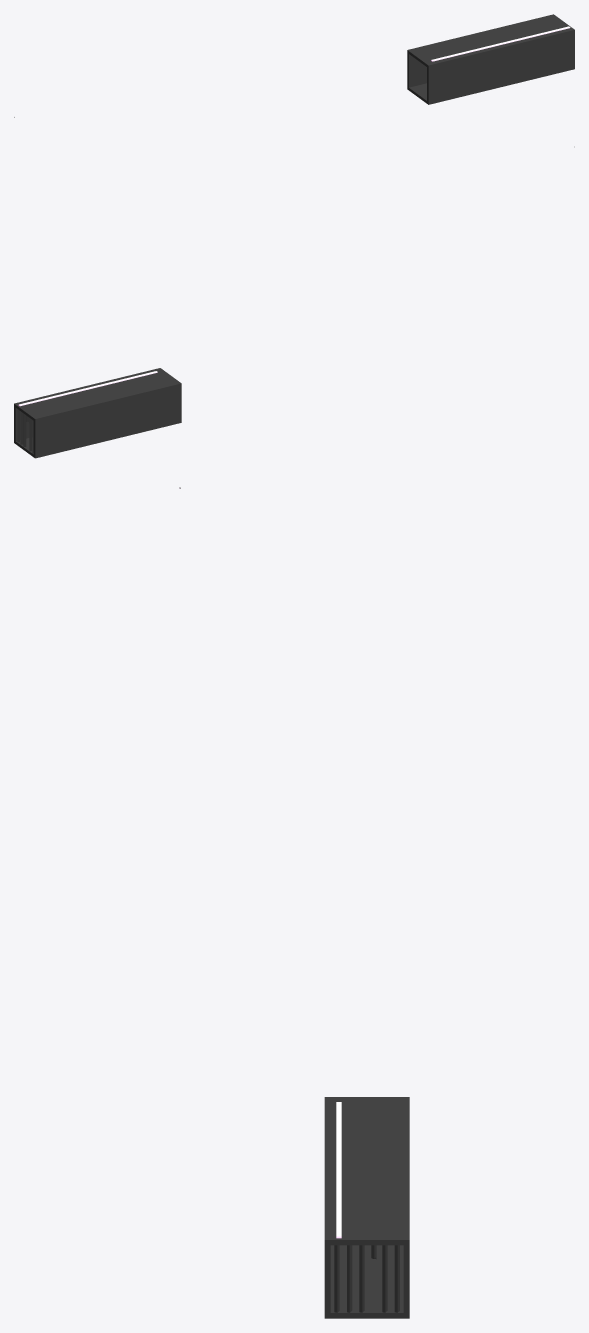
3 renders of one model, top to bottom at view 1: azimuth 30°, elevation 25°; view 2: azimuth 210°, elevation 25°; view 3: azimuth 270°, elevation 25°, orthographic. The views are drawn at different scales.
Visible parts, largest first — view 1: polySurface94, polySurface89; view 2: polySurface94; view 3: polySurface94.
Boxes of the visible parts, x1,y1,x2,y2 form: polySurface94: (407,14,574,104); polySurface89: (431,26,570,61); polySurface94: (14,368,181,458); polySurface94: (324,1097,409,1318).
Bounding box in the file's own units: 55.51 × 11.04 × 9.27.
